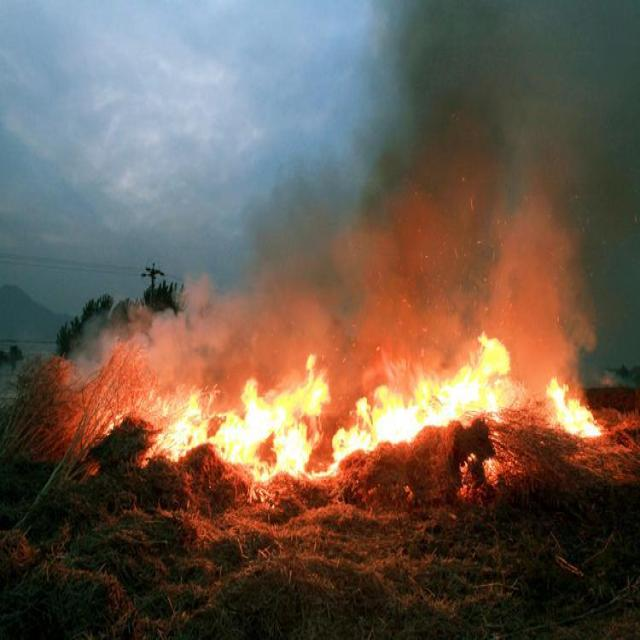fire: (78, 347, 600, 473)
smoke: (345, 4, 538, 336)
